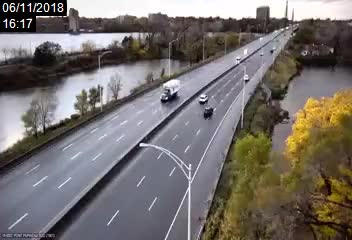truck: (160, 79, 180, 101), (203, 105, 213, 120), (199, 93, 208, 103), (241, 73, 252, 80), (235, 56, 240, 61)
